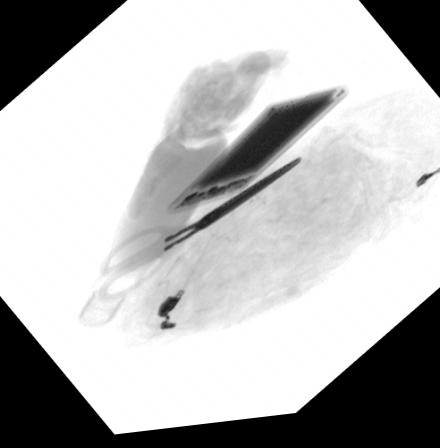Powerbank: (159, 92, 348, 216)
Scissors: (95, 164, 304, 303)
